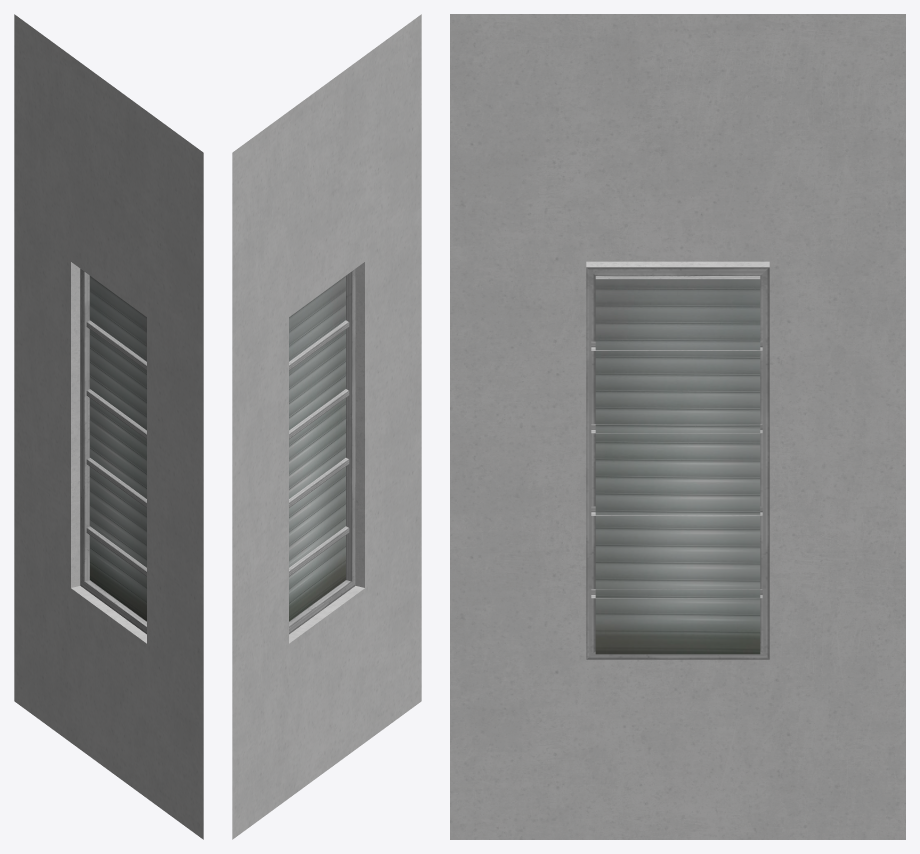
File: MB_Wall_Window_A_19.fbx
The picture shows the model from 3 angles, left to right: view 1: azimuth 30°, elevation 25°; view 2: azimuth 150°, elevation 25°; view 3: azimuth 270°, elevation 25°; orthographic projection. The views are drawn at different scales.
Parts seen in each view (by area): view 1: MB_Wall_Window_A_19; view 2: MB_Wall_Window_A_19; view 3: MB_Wall_Window_A_19.
Part boxes in pixels (x1,y1,x2,y2): MB_Wall_Window_A_19: [14, 14, 203, 839]; MB_Wall_Window_A_19: [232, 14, 421, 839]; MB_Wall_Window_A_19: [450, 14, 905, 839].
Bounding box in the file's own units: 9.6 × 400 × 200.
